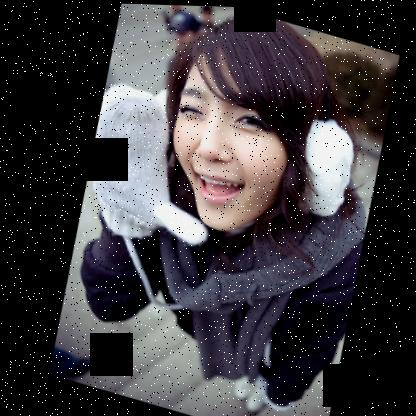Female: (143, 33, 315, 244)
